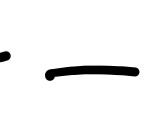minus: (45, 66, 140, 81)
